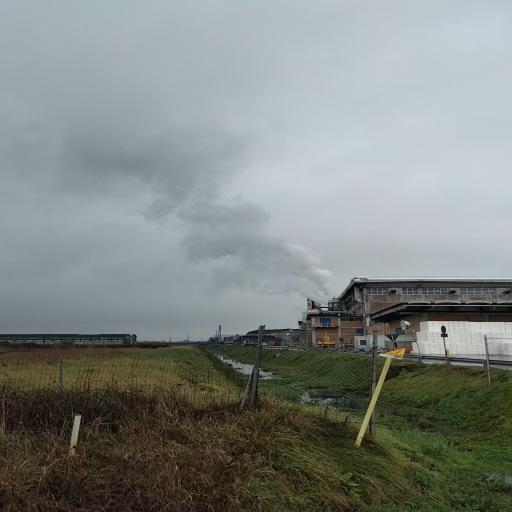leakage: (39, 108, 353, 318)
